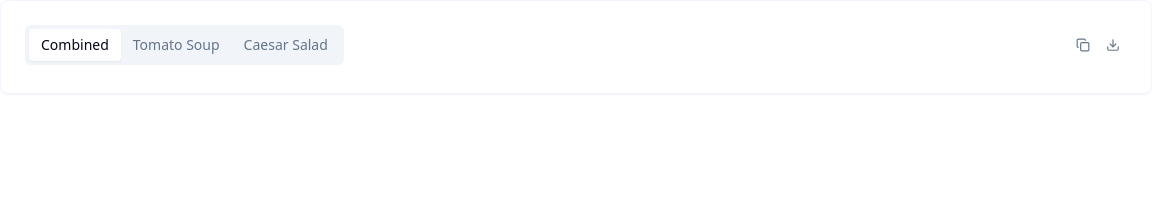
Test case: GroceryListSection › shows recipe-specific ingredients when per-recipe tab is clicked
Click the tab "Tomato Soup" at (176, 45), box x1=121 y1=29 x2=232 y2=61
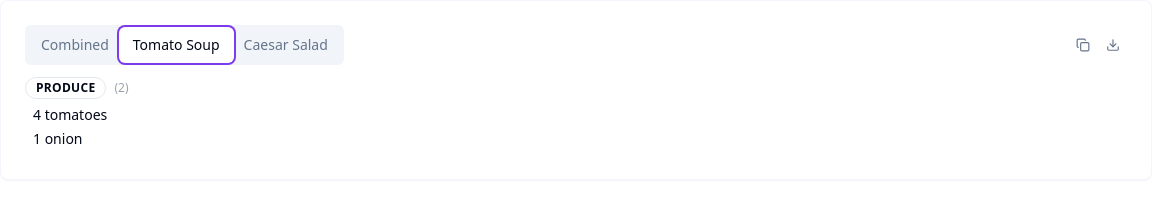
Now the text "Produce" is shown, box x1=25 y1=77 x2=106 y2=99
